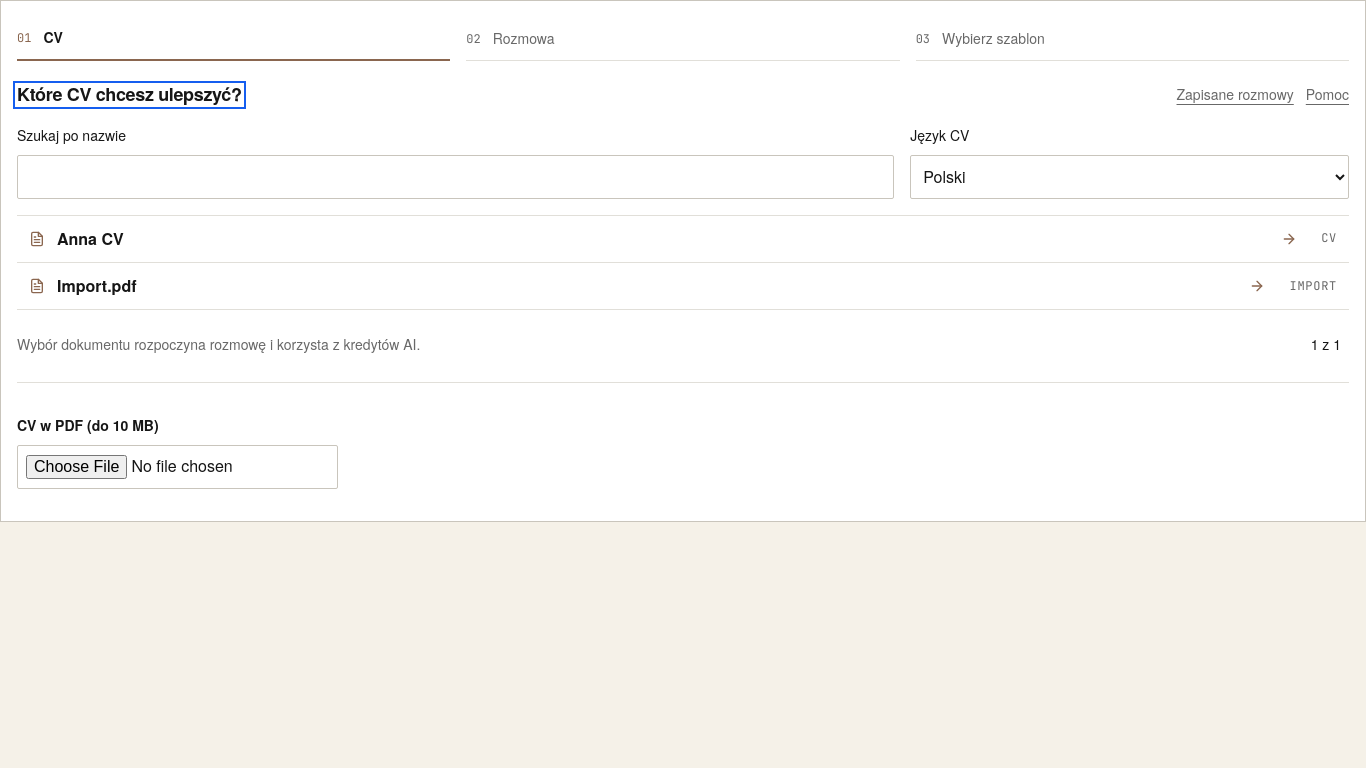
Test: template selection never saves unverified output and preserves verified save retry (clarify: true)
Click the button "Anna CV" at (90, 238), box [17,216,1309,262]
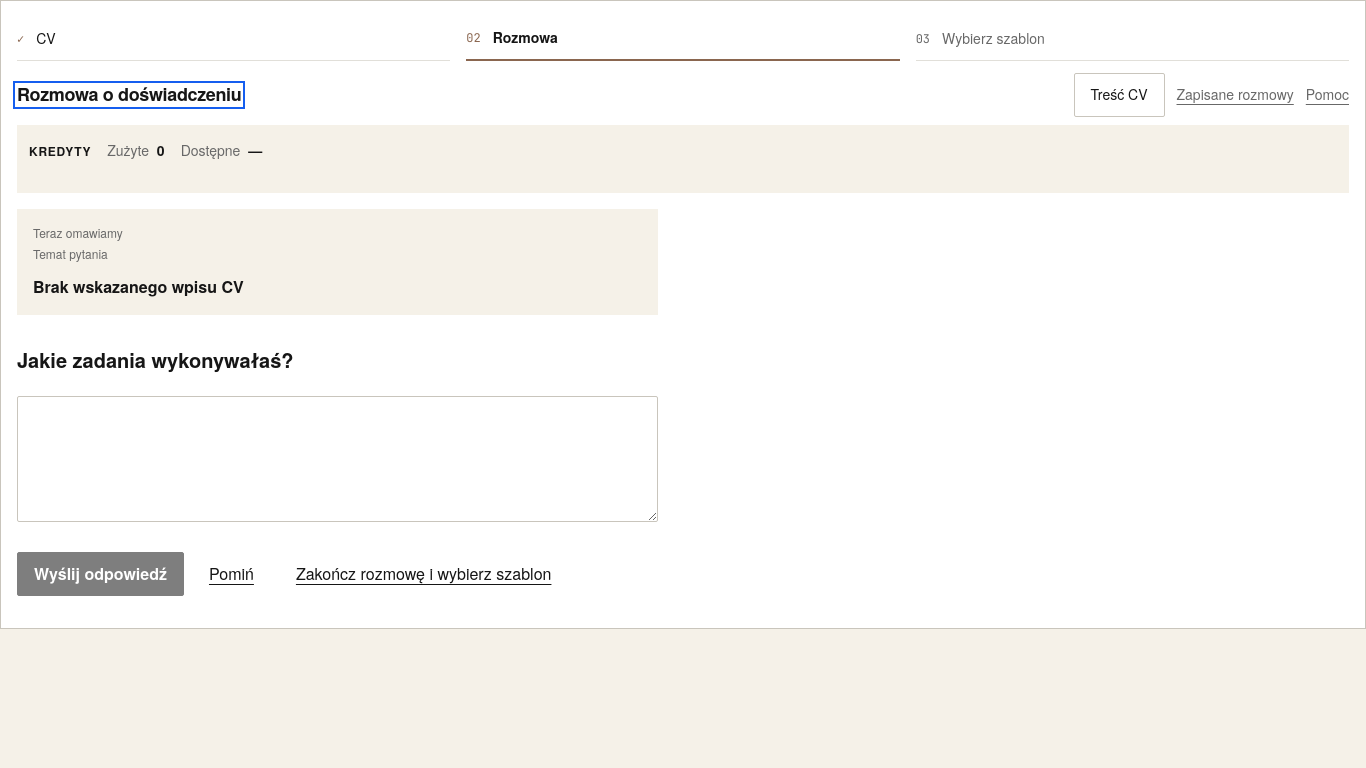
Now the text box named "Twoja odpowiedź" is shown, box [17,396,658,522]
Click the button "Zakończ rozmowę i wybierz szablon" at (424, 574), box [279,552,568,596]
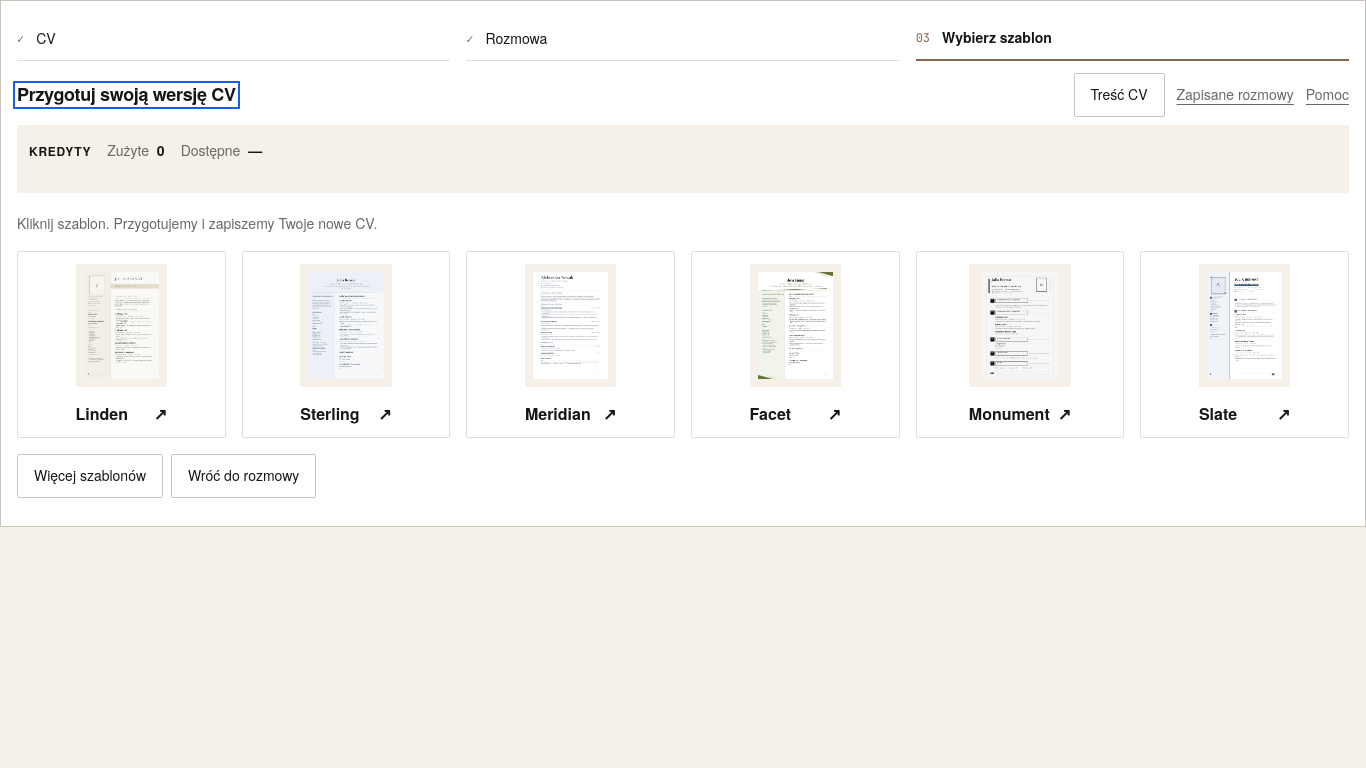
Click the button with aria-label "Utwórz CV · Linden" at (121, 344), box [17,251,226,438]
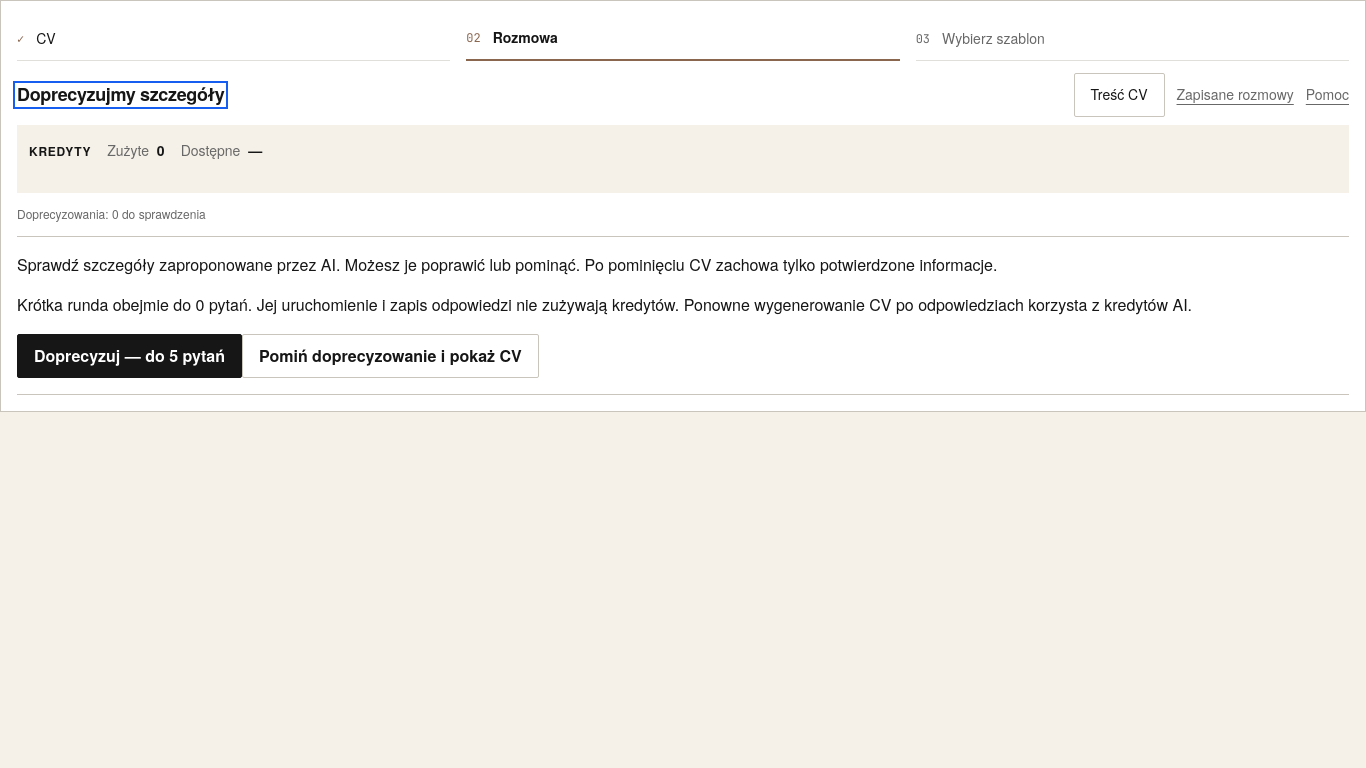
Now the button "Doprecyzuj — do 5 pytań" is shown, box [17,334,242,378]
